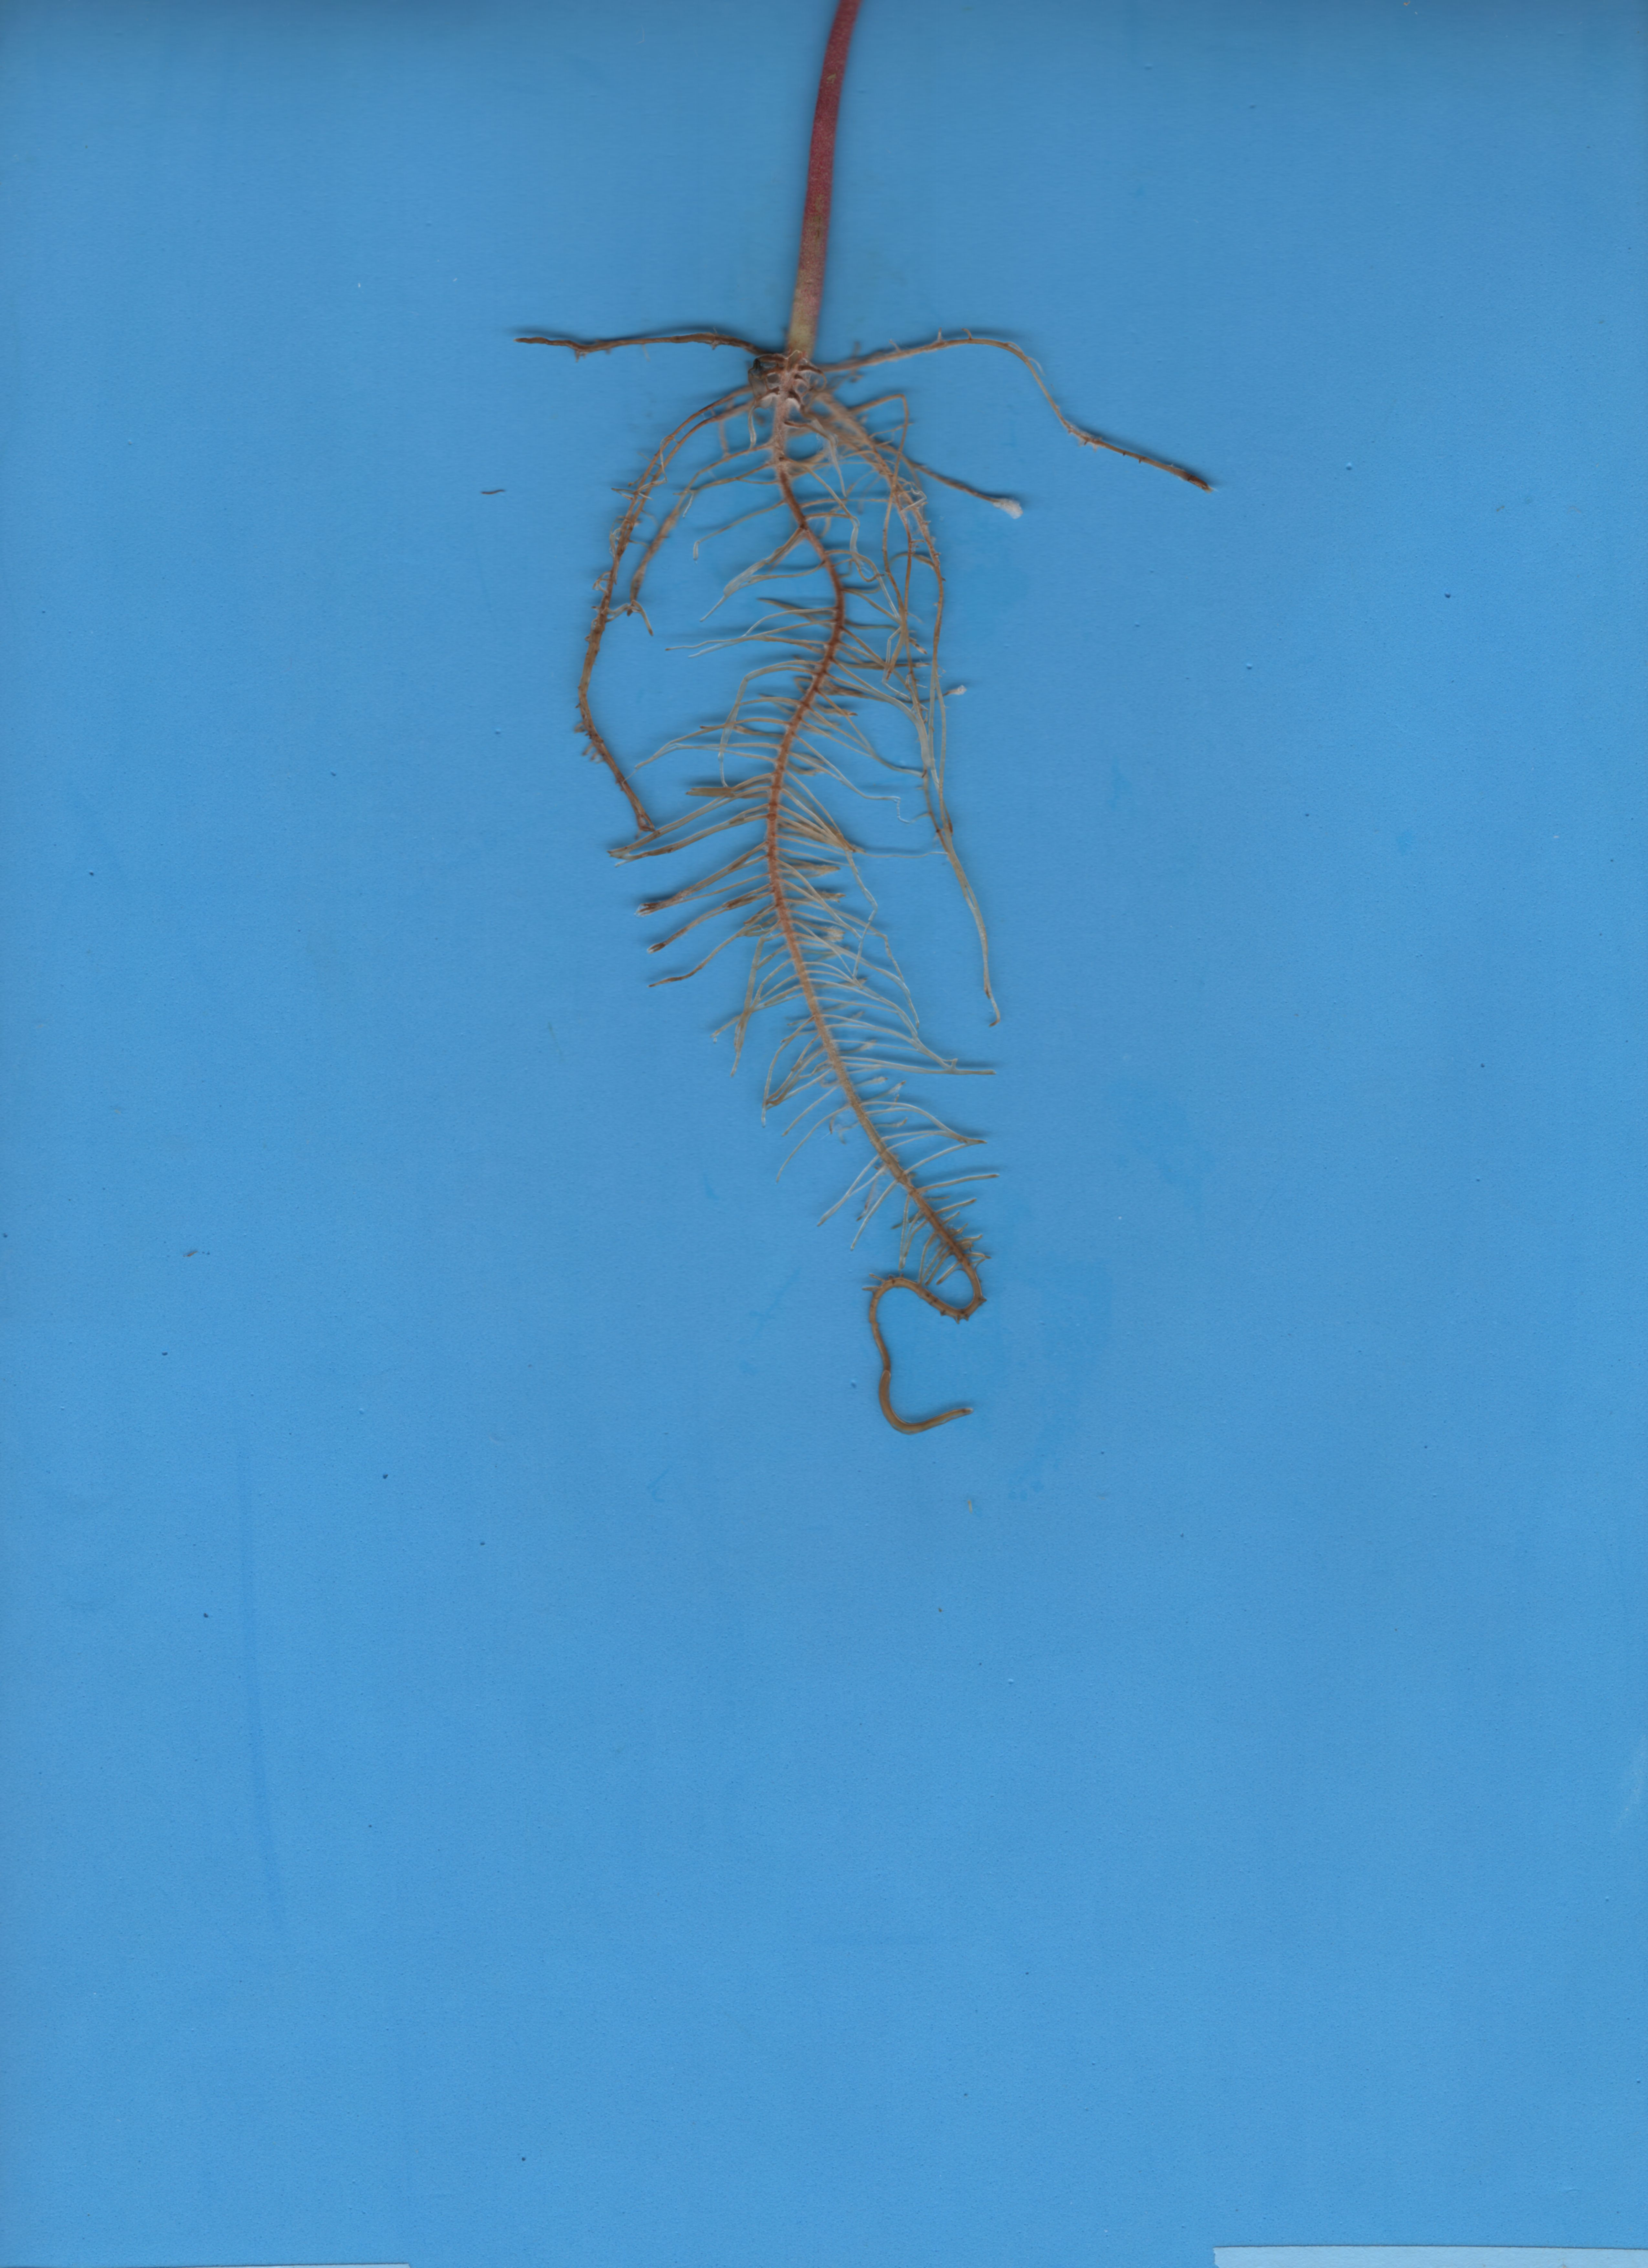CROWNDISEASE: (762, 0, 905, 403)
ROOTDISEASE: (343, 282, 1380, 1502)
